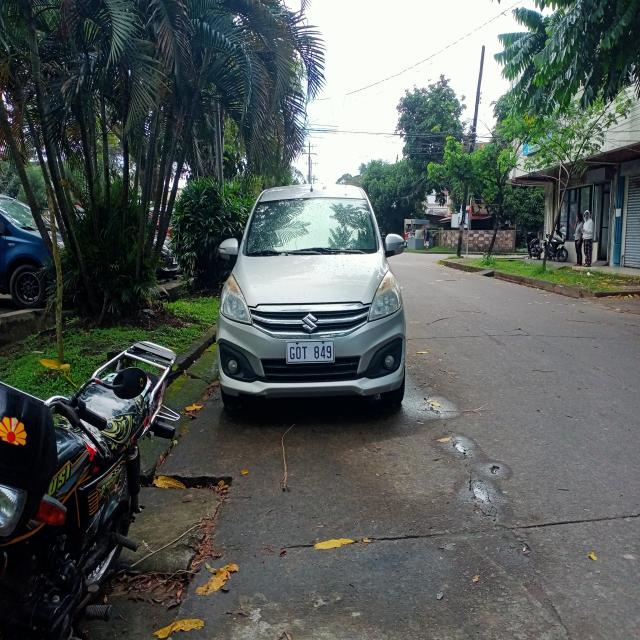plate: (286, 339, 336, 364)
